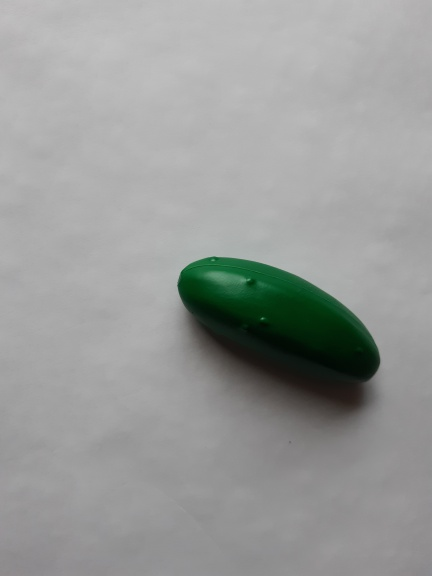cucumber: (167, 245, 391, 388)
